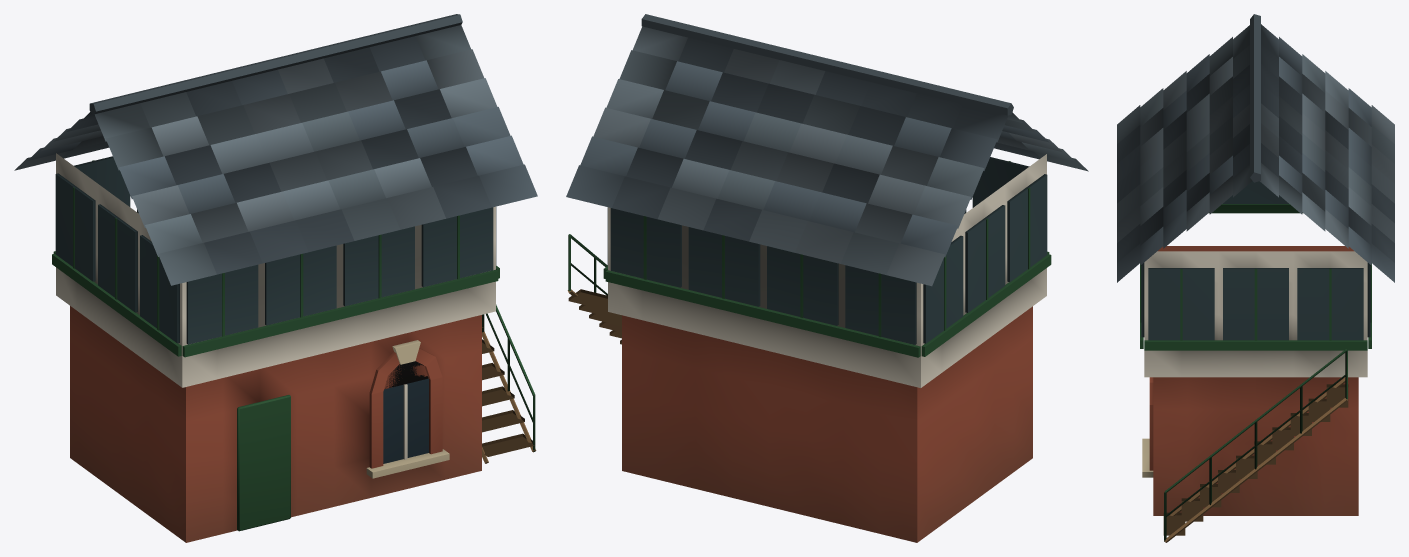
File: signal_box.glb
The picture shows the model from 3 angles, left to right: view 1: azimuth 30°, elevation 25°; view 2: azimuth 150°, elevation 25°; view 3: azimuth 270°, elevation 25°; orthographic projection. The views are drawn at different scales.
Visible parts, largest first — view 1: signal_box_mesh; view 2: signal_box_mesh; view 3: signal_box_mesh.
Part boxes in pixels (<box>): signal_box_mesh: <box>14,14,537,542</box>; signal_box_mesh: <box>566,14,1088,542</box>; signal_box_mesh: <box>1117,14,1394,542</box>.
Bounding box in the file's own units: 6.63 × 6.58 × 4.6.
